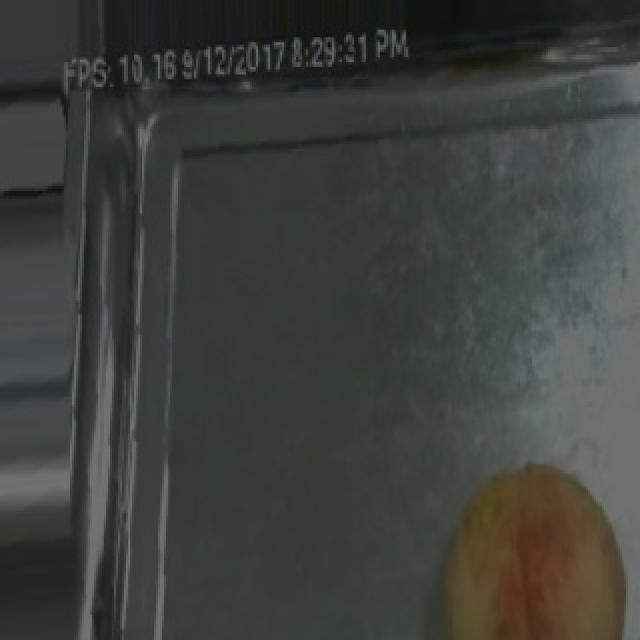Fruit: (418, 449, 640, 640)
